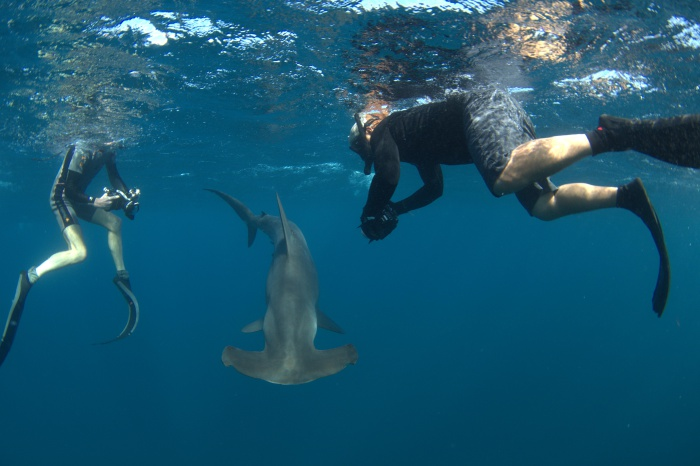Hammer: (202, 180, 366, 398)
